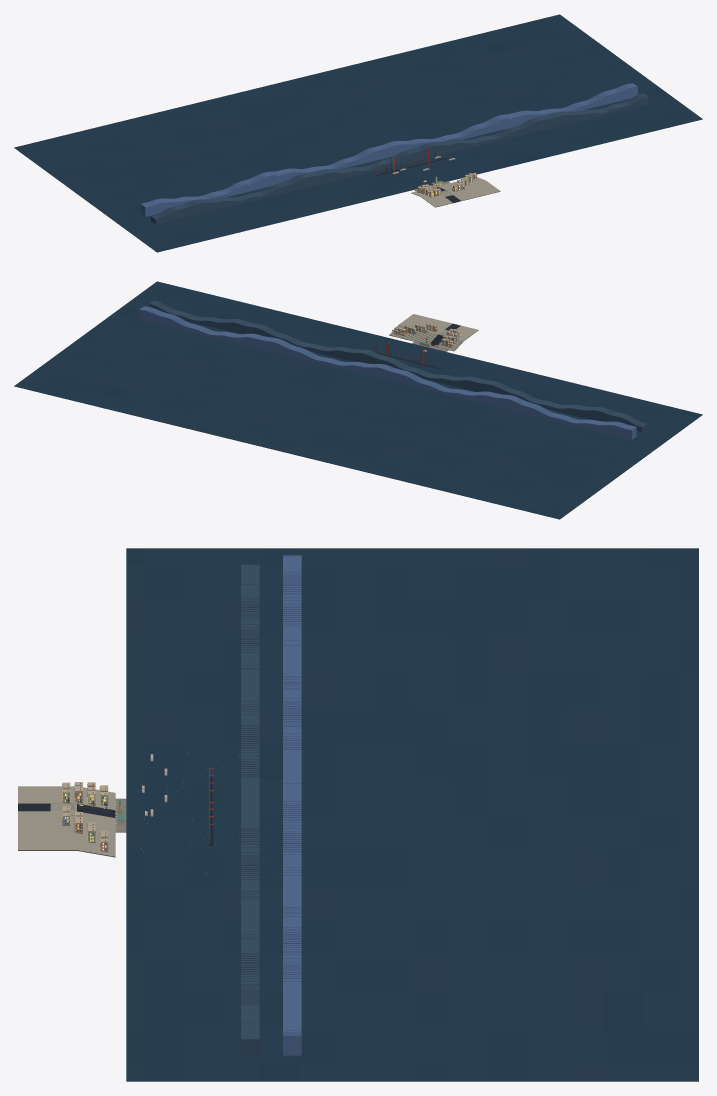
File: room.glb
3 views of the same model, one above another, from view 1: azimuth 30°, elevation 25°; view 2: azimuth 150°, elevation 25°; view 3: azimuth 270°, elevation 25° (orthographic). The views are drawn at different scales.
Visible parts, largest first — view 1: land; view 2: land; view 3: land.
Boxes of the visible parts, x1,y1,x2,y2 form: land: (14,14,702,252); land: (14,281,702,519); land: (18,548,698,1081).
Bounding box in the file's own units: 1200 × 37.3 × 648.
Materials: 14 (10 with a texture image).
